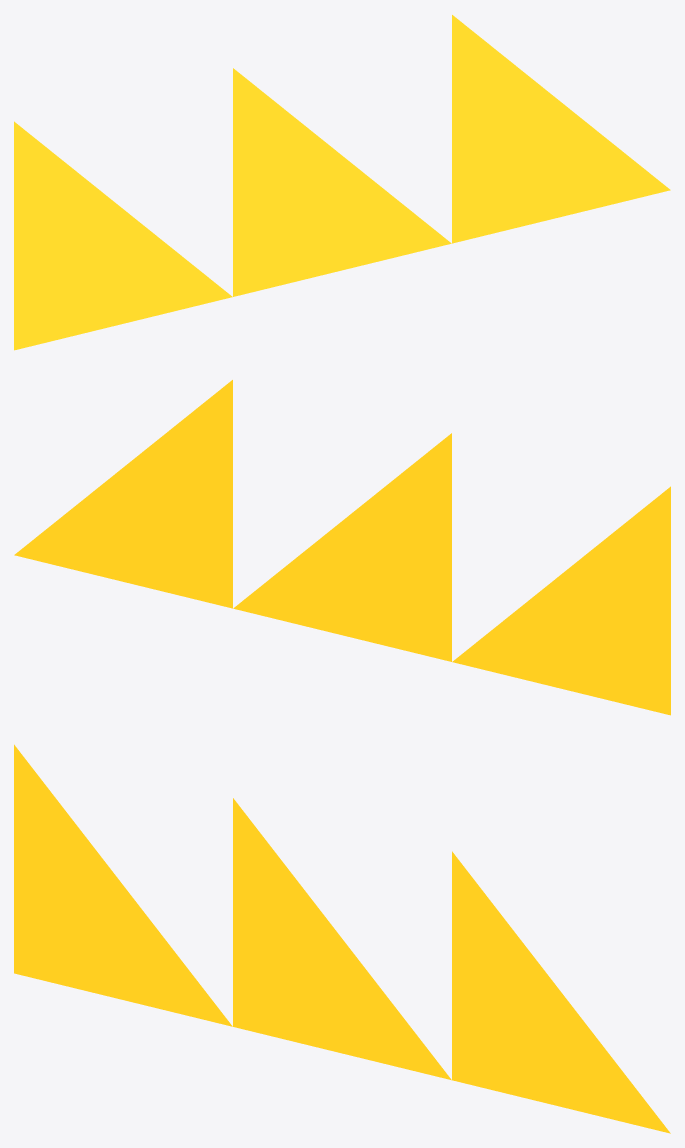
Rendered from shared_maps_three_primitives.glb.
The picture shows the model from 3 angles, top to bottom: view 1: azimuth 30°, elevation 25°; view 2: azimuth 150°, elevation 25°; view 3: azimuth 330°, elevation 25°; orthographic projection.
Parts seen in each view (by area): view 1: shared_maps; view 2: shared_maps; view 3: shared_maps.
Boxes of the visible parts, box(x1,y1,x2,y2) form: shared_maps: box(14, 15, 670, 350); shared_maps: box(14, 380, 670, 715); shared_maps: box(14, 744, 670, 1133).
Bounding box in the file's own units: 3 × 1 × 0.
Materials: 1 (1 with a texture image).
